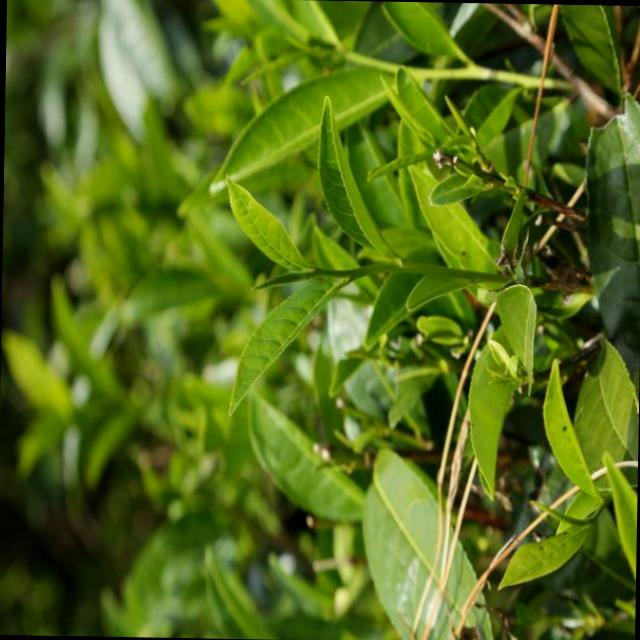Stem: (314, 268, 322, 275)
